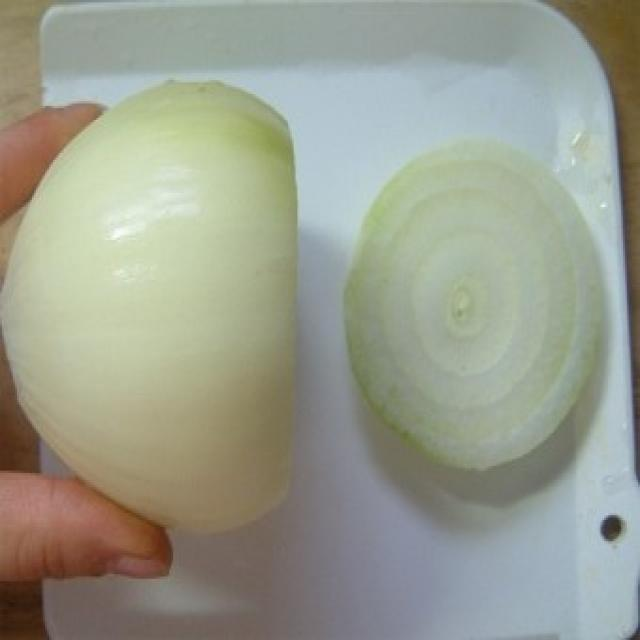onion: (3, 56, 314, 569), (341, 130, 607, 492)
